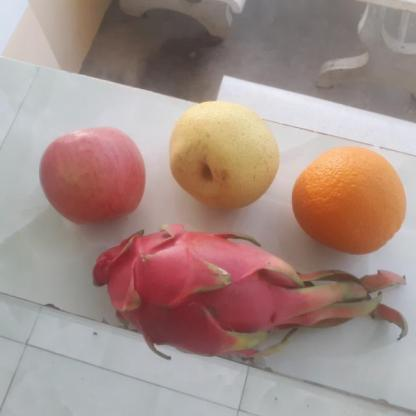apple: (36, 127, 144, 221)
orange: (288, 141, 409, 252)
pear: (166, 102, 281, 209)
pitaya: (78, 224, 272, 343)
